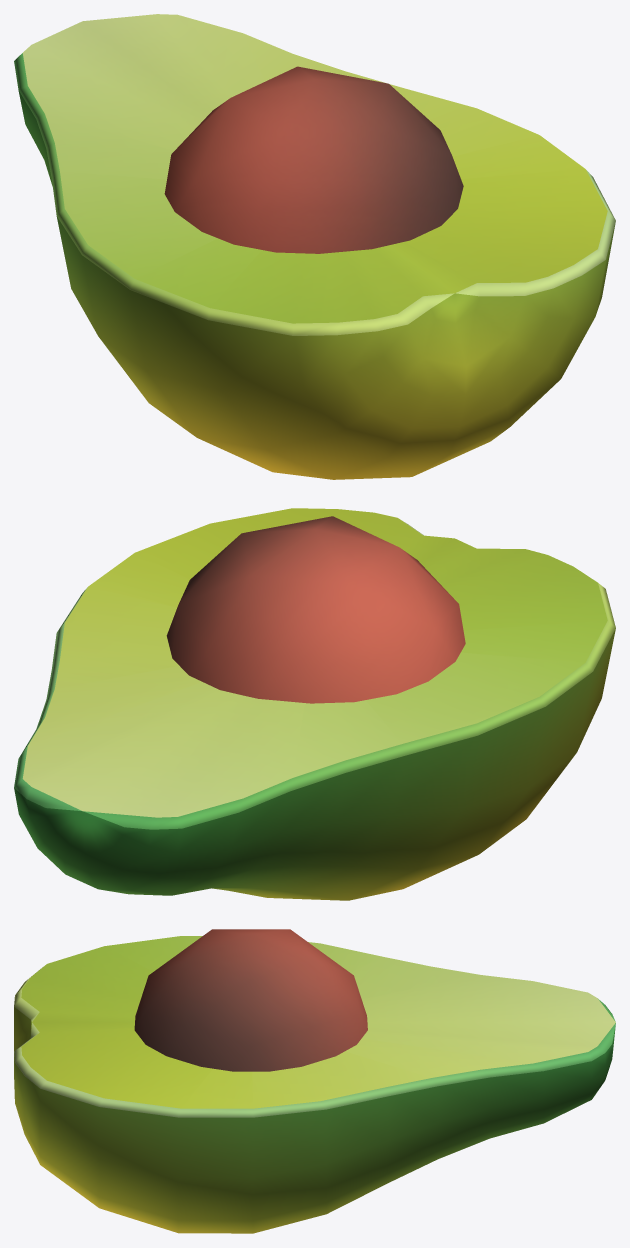
The model's file is avocado_003.fbx.
3 views of the same model, one above another, from view 1: azimuth 30°, elevation 25°; view 2: azimuth 150°, elevation 25°; view 3: azimuth 270°, elevation 25° (orthographic). The views are drawn at different scales.
Parts seen in each view (by area): view 1: avocado_003; view 2: avocado_003; view 3: avocado_003.
Boxes of the visible parts, bbox=[...] form: avocado_003: bbox=[14, 14, 615, 479]; avocado_003: bbox=[14, 508, 615, 900]; avocado_003: bbox=[14, 929, 615, 1233].
Size of the model in its own units: 9.74 by 13.96 by 7.14.
